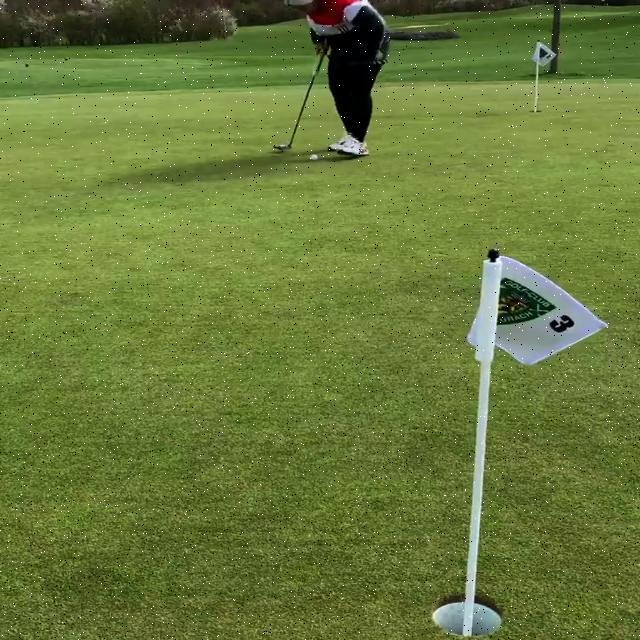ClubHead: (274, 144, 292, 149)
GolfBall: (309, 154, 318, 160)
